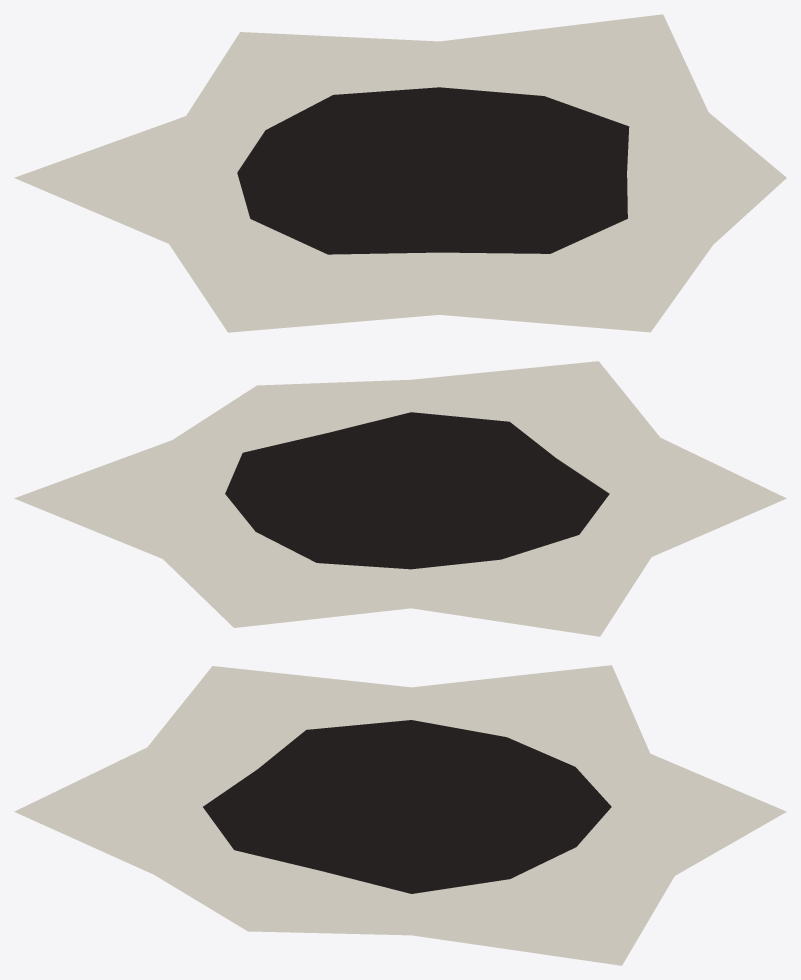
The model's file is hole_wall_01.obj.
3 views of the same model, one above another, from view 1: azimuth 30°, elevation 25°; view 2: azimuth 150°, elevation 25°; view 3: azimuth 270°, elevation 25° (orthographic). The views are drawn at different scales.
Size of the model in its own units: 0.0531 by 0.0004 by 0.0577.
